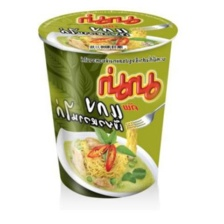paper_cup: (34, 6, 182, 201)
